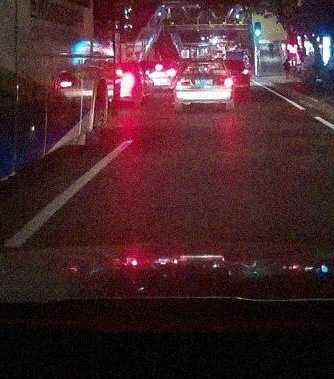L_light: (176, 80, 192, 87)
R_light: (216, 78, 233, 85)
T_light: (198, 63, 208, 65)
night-right: (173, 59, 235, 110)
